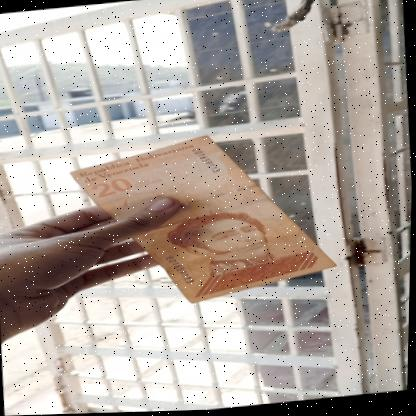twenty-front-vef: (66, 123, 341, 316)
